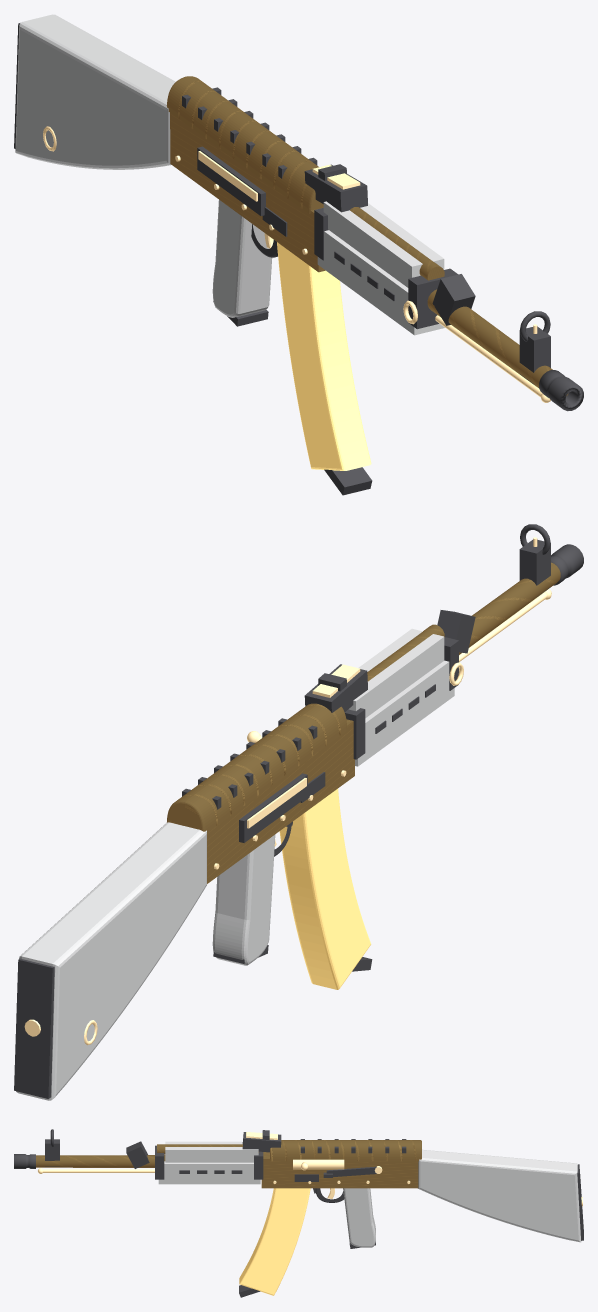
Rendered from ak47_classic (1).glb.
3 views of the same model, one above another, from view 1: azimuth 30°, elevation 25°; view 2: azimuth 150°, elevation 25°; view 3: azimuth 270°, elevation 25° (orthographic). The views are drawn at different scales.
Parts seen in each view (by area): view 1: AK47_Body_wood, AK47_Body_metalPrimary, AK47_Mag_accent, AK47_Body_metalDark, AK47_Body_metalChrome, AK47_Mag_metalDark; view 2: AK47_Body_wood, AK47_Body_metalPrimary, AK47_Body_metalDark, AK47_Mag_accent, AK47_Body_metalChrome; view 3: AK47_Body_wood, AK47_Body_metalPrimary, AK47_Mag_accent, AK47_Body_metalDark, AK47_Body_metalChrome, AK47_Bolt_metalChrome.
Part boxes in pixels (x1=…): AK47_Body_wood: x1=15, y1=14, x2=444, y2=335; AK47_Body_metalPrimary: x1=166, y1=76, x2=568, y2=395; AK47_Mag_accent: x1=277, y1=242, x2=371, y2=470; AK47_Body_metalDark: x1=14, y1=23, x2=583, y2=411; AK47_Body_metalChrome: x1=43, y1=126, x2=550, y2=402; AK47_Mag_metalDark: x1=324, y1=467, x2=372, y2=495; AK47_Body_wood: x1=16, y1=628, x2=454, y2=1100; AK47_Body_metalPrimary: x1=167, y1=562, x2=560, y2=883; AK47_Body_metalDark: x1=14, y1=524, x2=583, y2=1098; AK47_Mag_accent: x1=279, y1=788, x2=371, y2=989; AK47_Body_metalChrome: x1=24, y1=537, x2=551, y2=1045; AK47_Body_wood: x1=158, y1=1141, x2=581, y2=1247; AK47_Body_metalPrimary: x1=36, y1=1140, x2=421, y2=1188; AK47_Mag_accent: x1=239, y1=1188, x2=310, y2=1295; AK47_Body_metalDark: x1=14, y1=1129, x2=583, y2=1248; AK47_Body_metalChrome: x1=38, y1=1132, x2=582, y2=1206; AK47_Bolt_metalChrome: x1=293, y1=1159, x2=344, y2=1170.
Size of the model in its own units: 0.077 by 0.3112 by 0.9788.
Materials: 7 (2 with a texture image).
